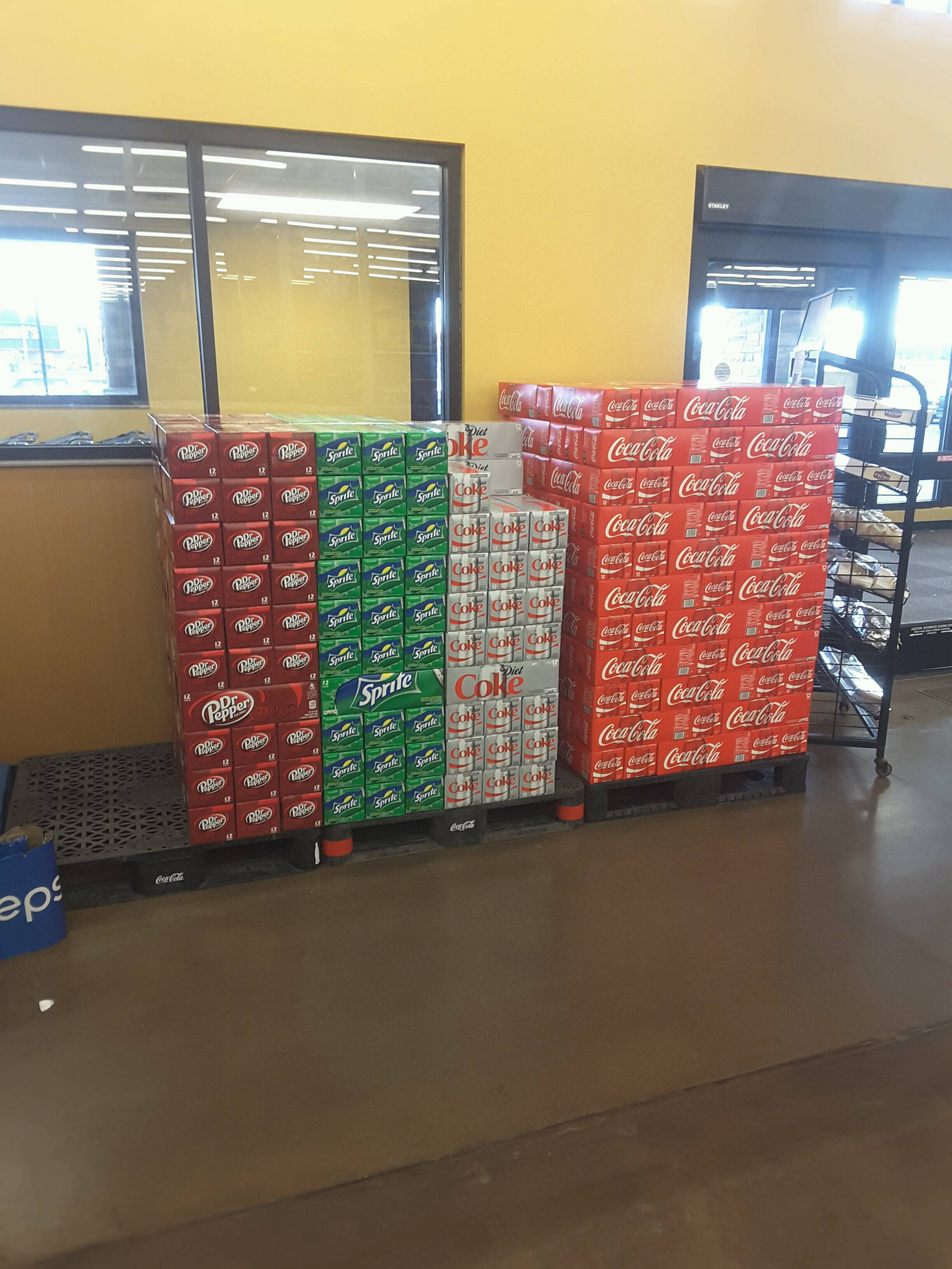Box: (601, 431, 742, 459), (680, 390, 786, 426), (674, 538, 827, 562), (675, 464, 775, 499), (185, 696, 313, 720), (325, 681, 442, 707), (603, 505, 704, 535), (598, 648, 721, 672), (671, 607, 770, 636), (740, 565, 828, 596), (603, 578, 698, 605), (747, 429, 835, 458), (598, 714, 688, 741), (448, 671, 558, 693), (664, 674, 763, 698), (741, 502, 828, 528), (169, 432, 218, 477), (173, 524, 222, 565), (661, 741, 747, 764), (221, 431, 264, 476), (223, 480, 270, 521), (172, 480, 218, 521), (226, 523, 272, 564), (728, 700, 810, 722), (268, 432, 312, 473), (176, 569, 221, 609), (793, 387, 841, 423), (362, 433, 404, 473), (319, 431, 359, 473), (227, 608, 271, 646), (272, 479, 316, 517), (406, 517, 448, 556), (174, 613, 222, 647), (735, 639, 816, 659), (224, 568, 268, 604), (320, 519, 360, 558), (184, 654, 225, 692), (276, 523, 316, 561), (275, 565, 316, 602), (275, 604, 317, 640), (322, 477, 361, 515), (366, 476, 404, 515), (231, 649, 272, 685), (362, 560, 403, 596), (364, 519, 405, 555), (601, 388, 639, 426), (639, 387, 674, 427), (451, 473, 488, 510), (492, 515, 530, 551), (320, 562, 358, 598), (322, 601, 362, 635), (276, 646, 318, 678), (408, 433, 444, 470), (408, 636, 445, 671), (448, 594, 486, 628), (411, 476, 448, 510), (326, 787, 364, 820), (192, 770, 230, 802), (189, 732, 227, 764), (237, 767, 277, 797), (327, 752, 363, 785), (454, 515, 487, 551), (451, 556, 488, 588), (448, 704, 483, 737), (408, 597, 443, 630), (366, 600, 401, 633), (492, 553, 527, 586), (601, 467, 633, 503), (409, 559, 445, 591), (367, 748, 404, 779), (533, 512, 564, 548), (408, 746, 445, 776), (196, 809, 233, 839), (489, 592, 523, 624), (285, 761, 320, 792), (240, 801, 276, 831), (236, 732, 274, 760), (366, 715, 404, 743), (450, 633, 482, 666), (488, 701, 520, 734), (637, 468, 668, 502), (366, 640, 400, 671), (530, 553, 564, 584), (408, 711, 443, 741), (282, 725, 318, 754), (325, 642, 358, 673), (524, 697, 558, 727), (601, 543, 631, 577), (528, 591, 562, 621), (284, 797, 319, 826), (368, 785, 401, 815), (633, 544, 666, 574), (327, 716, 360, 746), (485, 735, 519, 764), (488, 632, 522, 661), (524, 731, 554, 763), (450, 741, 482, 770), (408, 780, 440, 809), (707, 502, 735, 535), (527, 629, 560, 657), (633, 614, 663, 644), (448, 777, 480, 805), (485, 770, 515, 799), (595, 685, 624, 715), (600, 617, 629, 647), (521, 767, 553, 794), (808, 461, 835, 493), (693, 704, 721, 733), (626, 748, 655, 776), (594, 750, 621, 779), (630, 683, 659, 710), (779, 464, 804, 495), (705, 575, 732, 603), (753, 729, 778, 757), (791, 664, 816, 692), (782, 726, 808, 752), (796, 601, 822, 626), (766, 666, 785, 696), (773, 601, 791, 632)
